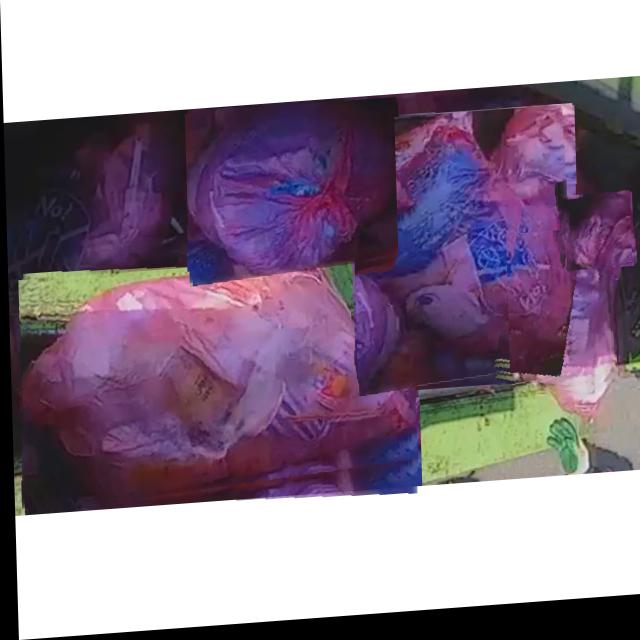other_trashbag: (20, 268, 415, 501), (353, 119, 574, 378), (187, 107, 395, 278), (507, 237, 609, 396), (566, 202, 629, 278)
